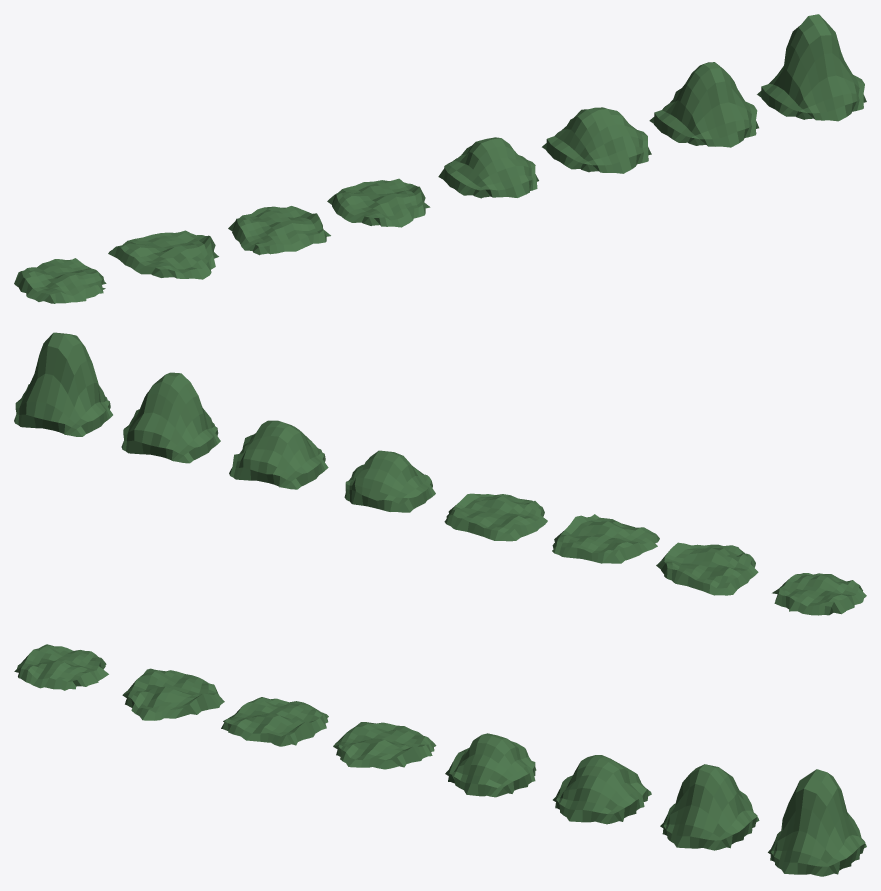
Rendered from S_VineFoliage_Blanket_Pack_01.fbx.
3 renders of one model, top to bottom at view 1: azimuth 30°, elevation 25°; view 2: azimuth 150°, elevation 25°; view 3: azimuth 330°, elevation 25°, orthographic.
Parts seen in each view (by area): view 1: S_VineFoliage_Blanket_08, S_VineFoliage_Blanket_07, S_VineFoliage_Blanket_06, S_VineFoliage_Blanket_05, S_VineFoliage_Blanket_02, S_VineFoliage_Blanket_04, S_VineFoliage_Blanket_03, S_VineFoliage_Blanket_01; view 2: S_VineFoliage_Blanket_08, S_VineFoliage_Blanket_07, S_VineFoliage_Blanket_06, S_VineFoliage_Blanket_05, S_VineFoliage_Blanket_02, S_VineFoliage_Blanket_03, S_VineFoliage_Blanket_04, S_VineFoliage_Blanket_01; view 3: S_VineFoliage_Blanket_08, S_VineFoliage_Blanket_07, S_VineFoliage_Blanket_06, S_VineFoliage_Blanket_05, S_VineFoliage_Blanket_02, S_VineFoliage_Blanket_03, S_VineFoliage_Blanket_04, S_VineFoliage_Blanket_01.
Boxes of the visible parts, x1=… form: S_VineFoliage_Blanket_08: x1=757, y1=14, x2=866, y2=121; S_VineFoliage_Blanket_07: x1=649, y1=62, x2=758, y2=147; S_VineFoliage_Blanket_06: x1=542, y1=107, x2=651, y2=173; S_VineFoliage_Blanket_05: x1=438, y1=137, x2=538, y2=198; S_VineFoliage_Blanket_02: x1=108, y1=230, x2=218, y2=279; S_VineFoliage_Blanket_04: x1=327, y1=178, x2=430, y2=227; S_VineFoliage_Blanket_03: x1=228, y1=206, x2=330, y2=255; S_VineFoliage_Blanket_01: x1=14, y1=258, x2=106, y2=303; S_VineFoliage_Blanket_08: x1=14, y1=332, x2=112, y2=436; S_VineFoliage_Blanket_07: x1=121, y1=372, x2=220, y2=463; S_VineFoliage_Blanket_06: x1=229, y1=420, x2=328, y2=489; S_VineFoliage_Blanket_05: x1=344, y1=450, x2=435, y2=512; S_VineFoliage_Blanket_02: x1=656, y1=542, x2=758, y2=595; S_VineFoliage_Blanket_03: x1=552, y1=514, x2=659, y2=563; S_VineFoliage_Blanket_04: x1=444, y1=493, x2=547, y2=541; S_VineFoliage_Blanket_01: x1=772, y1=573, x2=866, y2=615; S_VineFoliage_Blanket_08: x1=768, y1=769, x2=866, y2=876; S_VineFoliage_Blanket_07: x1=660, y1=764, x2=759, y2=850; S_VineFoliage_Blanket_06: x1=553, y1=755, x2=651, y2=824; S_VineFoliage_Blanket_05: x1=445, y1=733, x2=536, y2=797; S_VineFoliage_Blanket_02: x1=122, y1=668, x2=224, y2=720; S_VineFoliage_Blanket_03: x1=221, y1=697, x2=328, y2=746; S_VineFoliage_Blanket_04: x1=333, y1=722, x2=436, y2=769; S_VineFoliage_Blanket_01: x1=14, y1=644, x2=108, y2=690.
Bounding box in the file's own units: 155 × 14.59 × 18.17.
